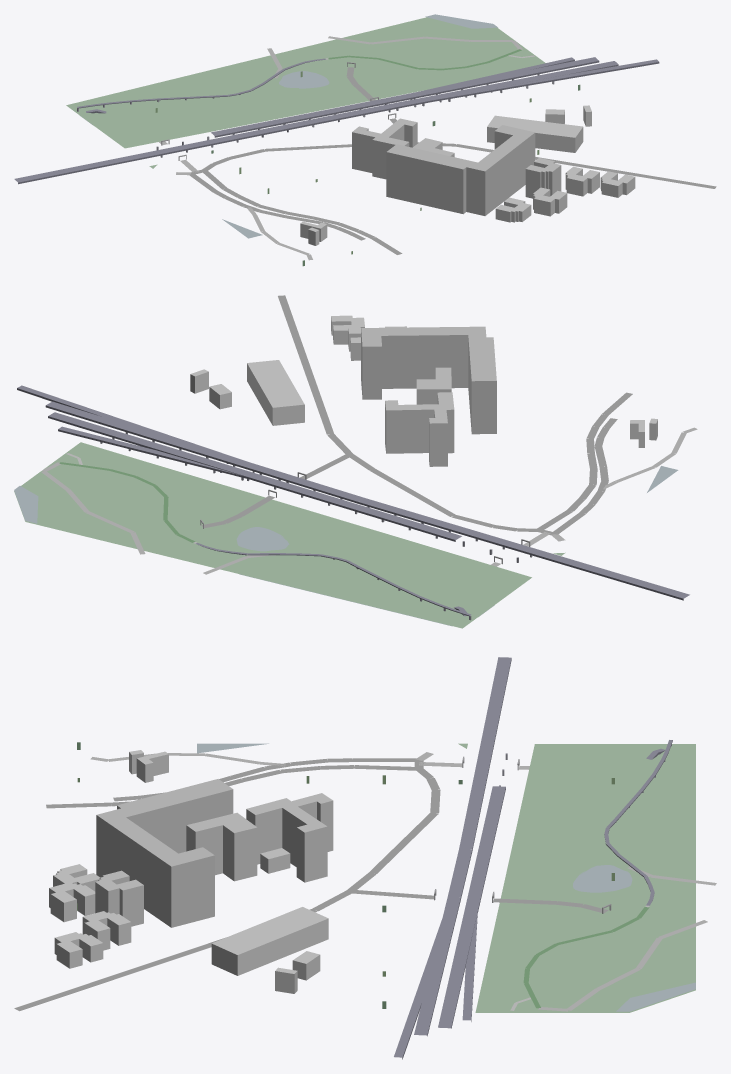
3 views of the same model, one above another, from view 1: azimuth 30°, elevation 25°; view 2: azimuth 150°, elevation 25°; view 3: azimuth 270°, elevation 25° (orthographic). The views are drawn at different scales.
Bounding box in the file's own units: 749 × 56.61 × 552.
